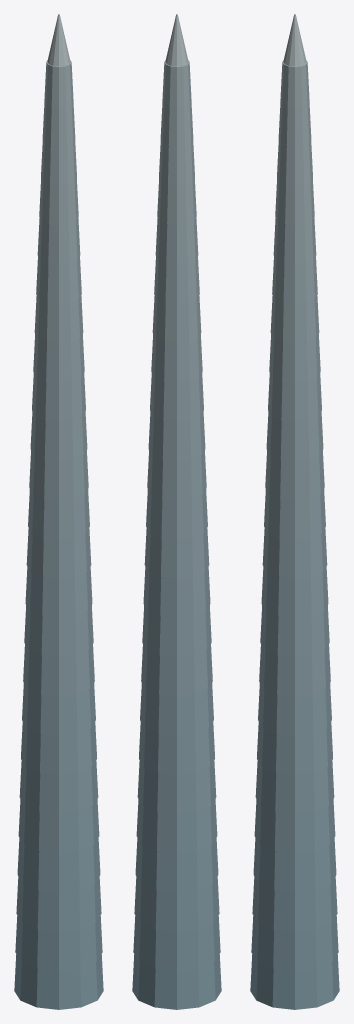
The picture shows the model from 3 angles, left to right: view 1: azimuth 30°, elevation 25°; view 2: azimuth 150°, elevation 25°; view 3: azimuth 330°, elevation 25°; orthographic projection.
Parts seen in each view (by area): view 1: Visual; view 2: Visual; view 3: Visual.
Part boxes in pixels (<box>): Visual: <box>14,14,103,1009</box>; Visual: <box>132,14,221,1009</box>; Visual: <box>250,14,339,1009</box>.
Size of the model in its own units: 46 by 555 by 46.
